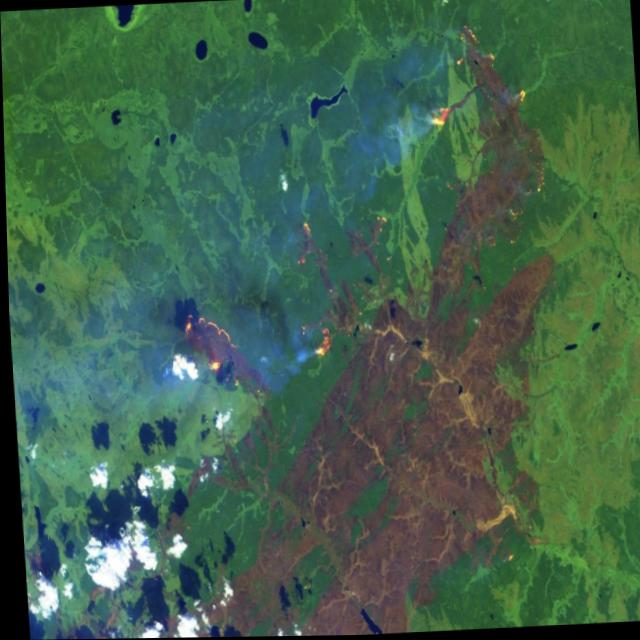fire: (174, 306, 241, 393), (449, 19, 500, 79), (287, 210, 317, 282), (302, 319, 336, 369), (424, 102, 457, 143), (366, 204, 392, 249), (509, 83, 532, 112)
